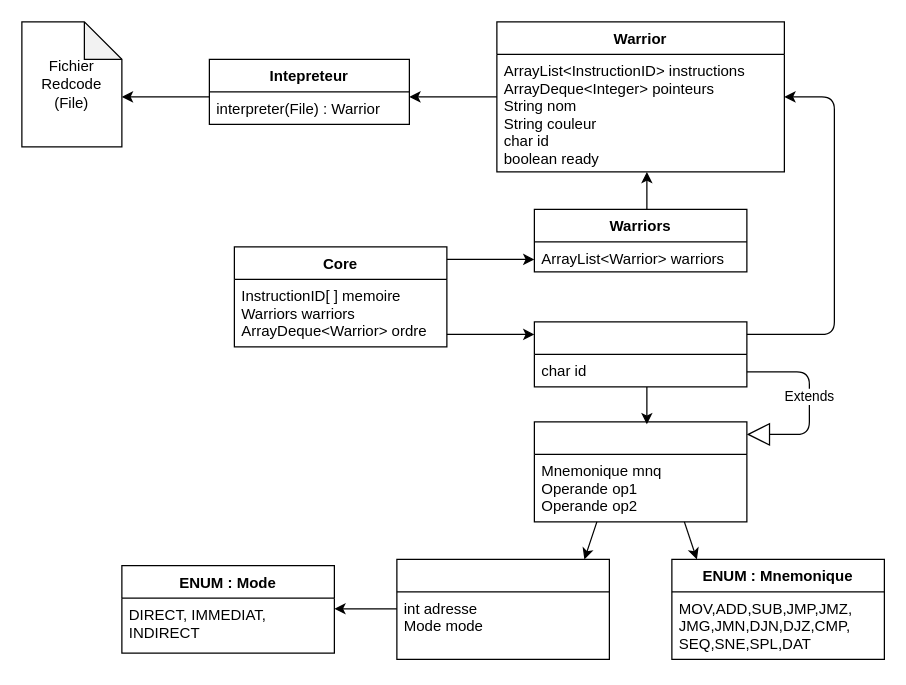
The diagram is 906 pixels wide and 685 high, and some of its shapes have lost their labels. Each missing label, with the box of its shape:
Instruction: (533, 421, 747, 522)
InstructionID: (533, 321, 747, 387)
Operande: (396, 558, 609, 659)
